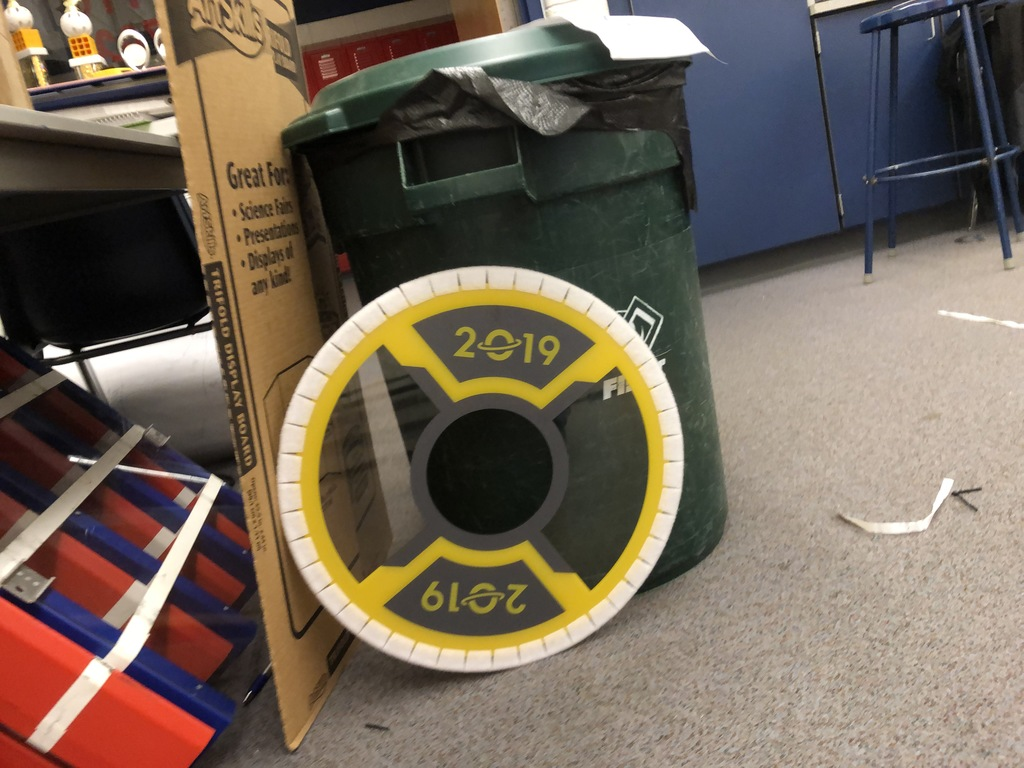hatch_panel: (228, 254, 709, 695)
